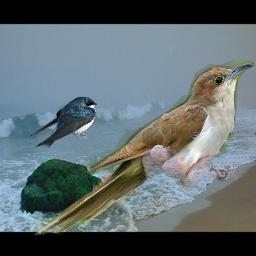Cuckoo: (34, 60, 254, 235)
Swallow: (26, 96, 97, 148)
